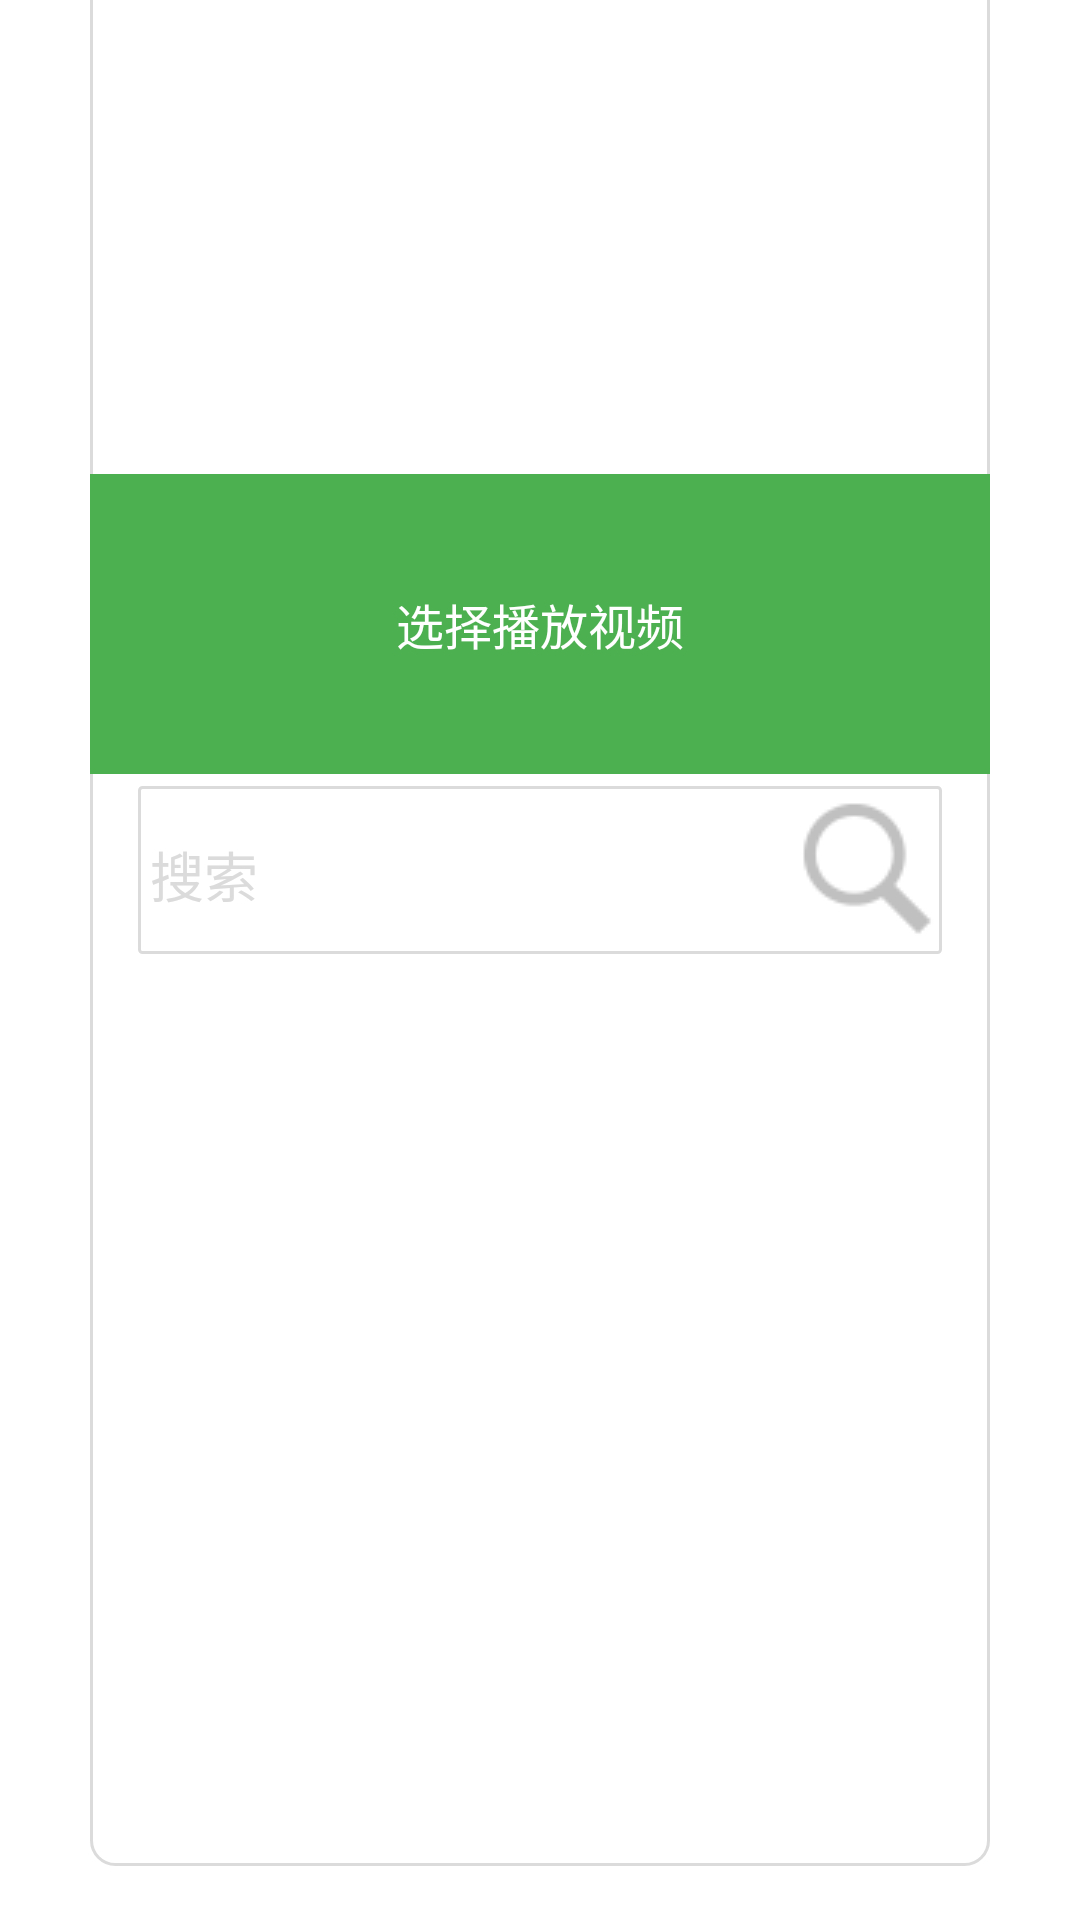

Icon bounding boxes for this 1080 x 1920 phone screenshot, format (x1, y1, x2, y2):
search: (804, 804, 930, 933)
